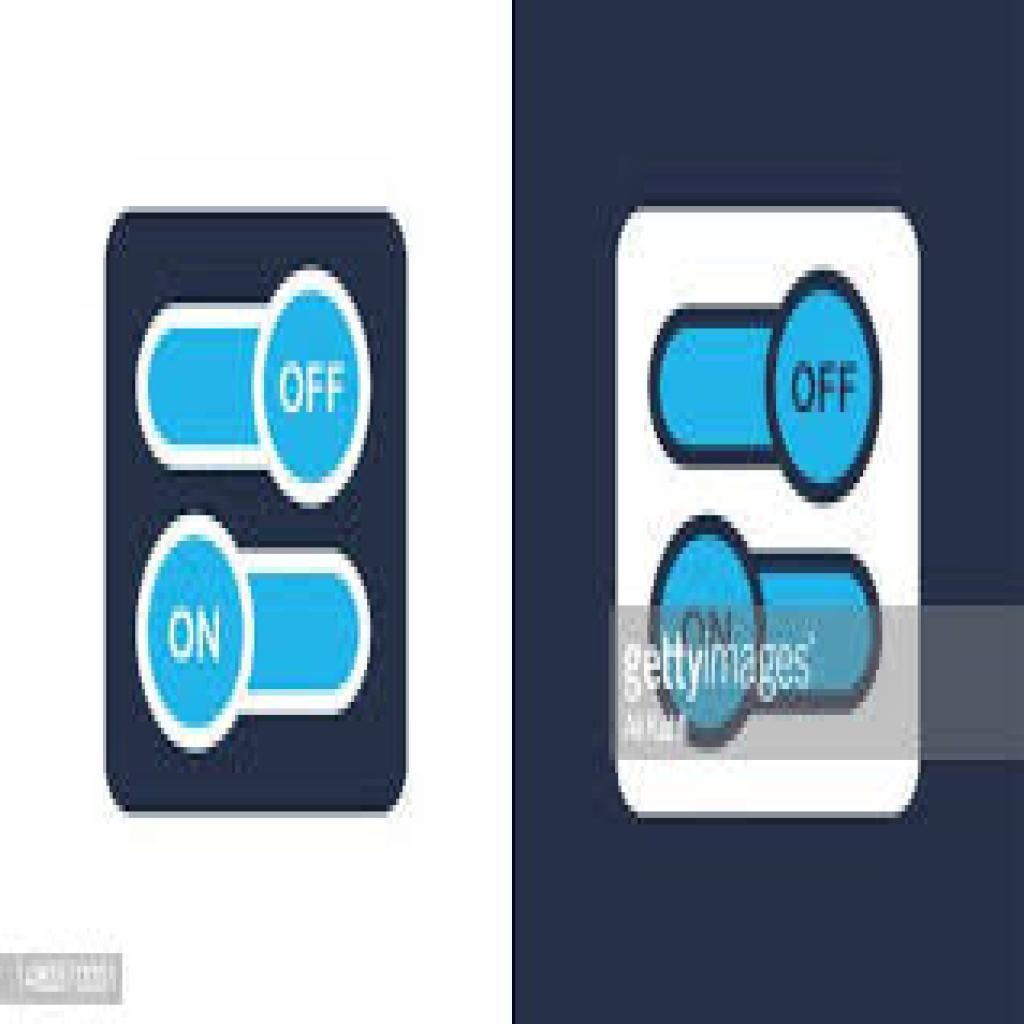switch: (135, 276, 383, 508), (134, 516, 372, 755), (649, 274, 885, 504)
